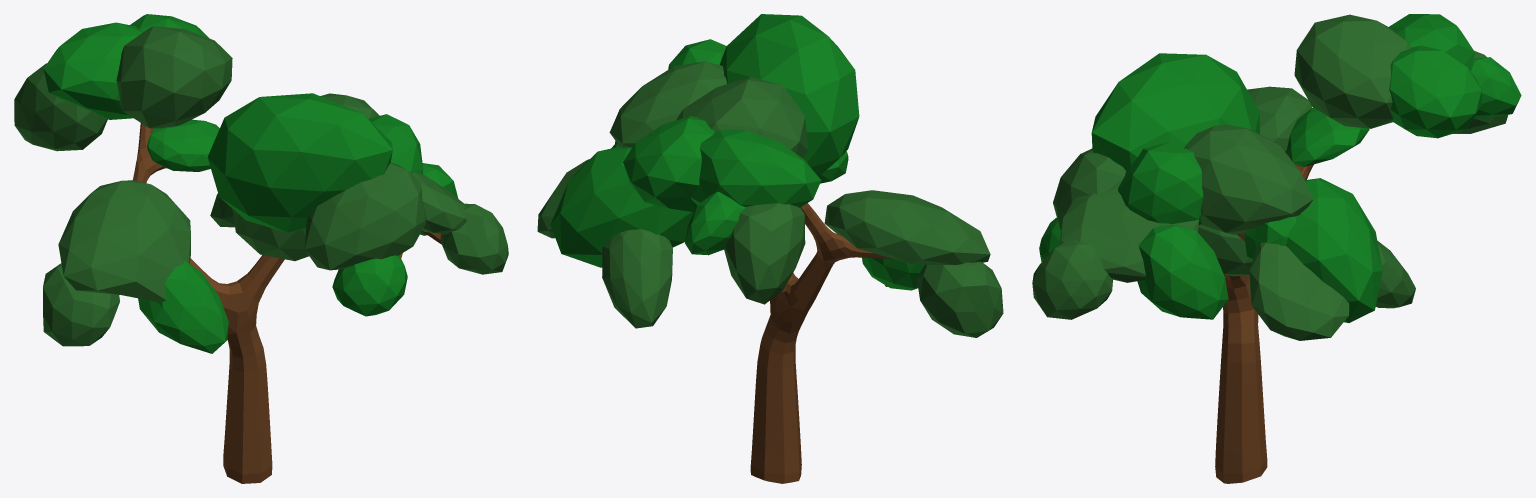
The model's file is oak02.fbx.
3 views of the same model, side by side, from view 1: azimuth 30°, elevation 25°; view 2: azimuth 150°, elevation 25°; view 3: azimuth 270°, elevation 25° (orthographic). The views are drawn at different scales.
Visible parts, largest first — view 1: Tree; view 2: Tree; view 3: Tree.
Part boxes in pixels (<box>): Tree: <box>14,14,508,483</box>; Tree: <box>537,14,1003,483</box>; Tree: <box>1032,14,1521,483</box>.
Size of the model in its own units: 575 by 578 by 575.
